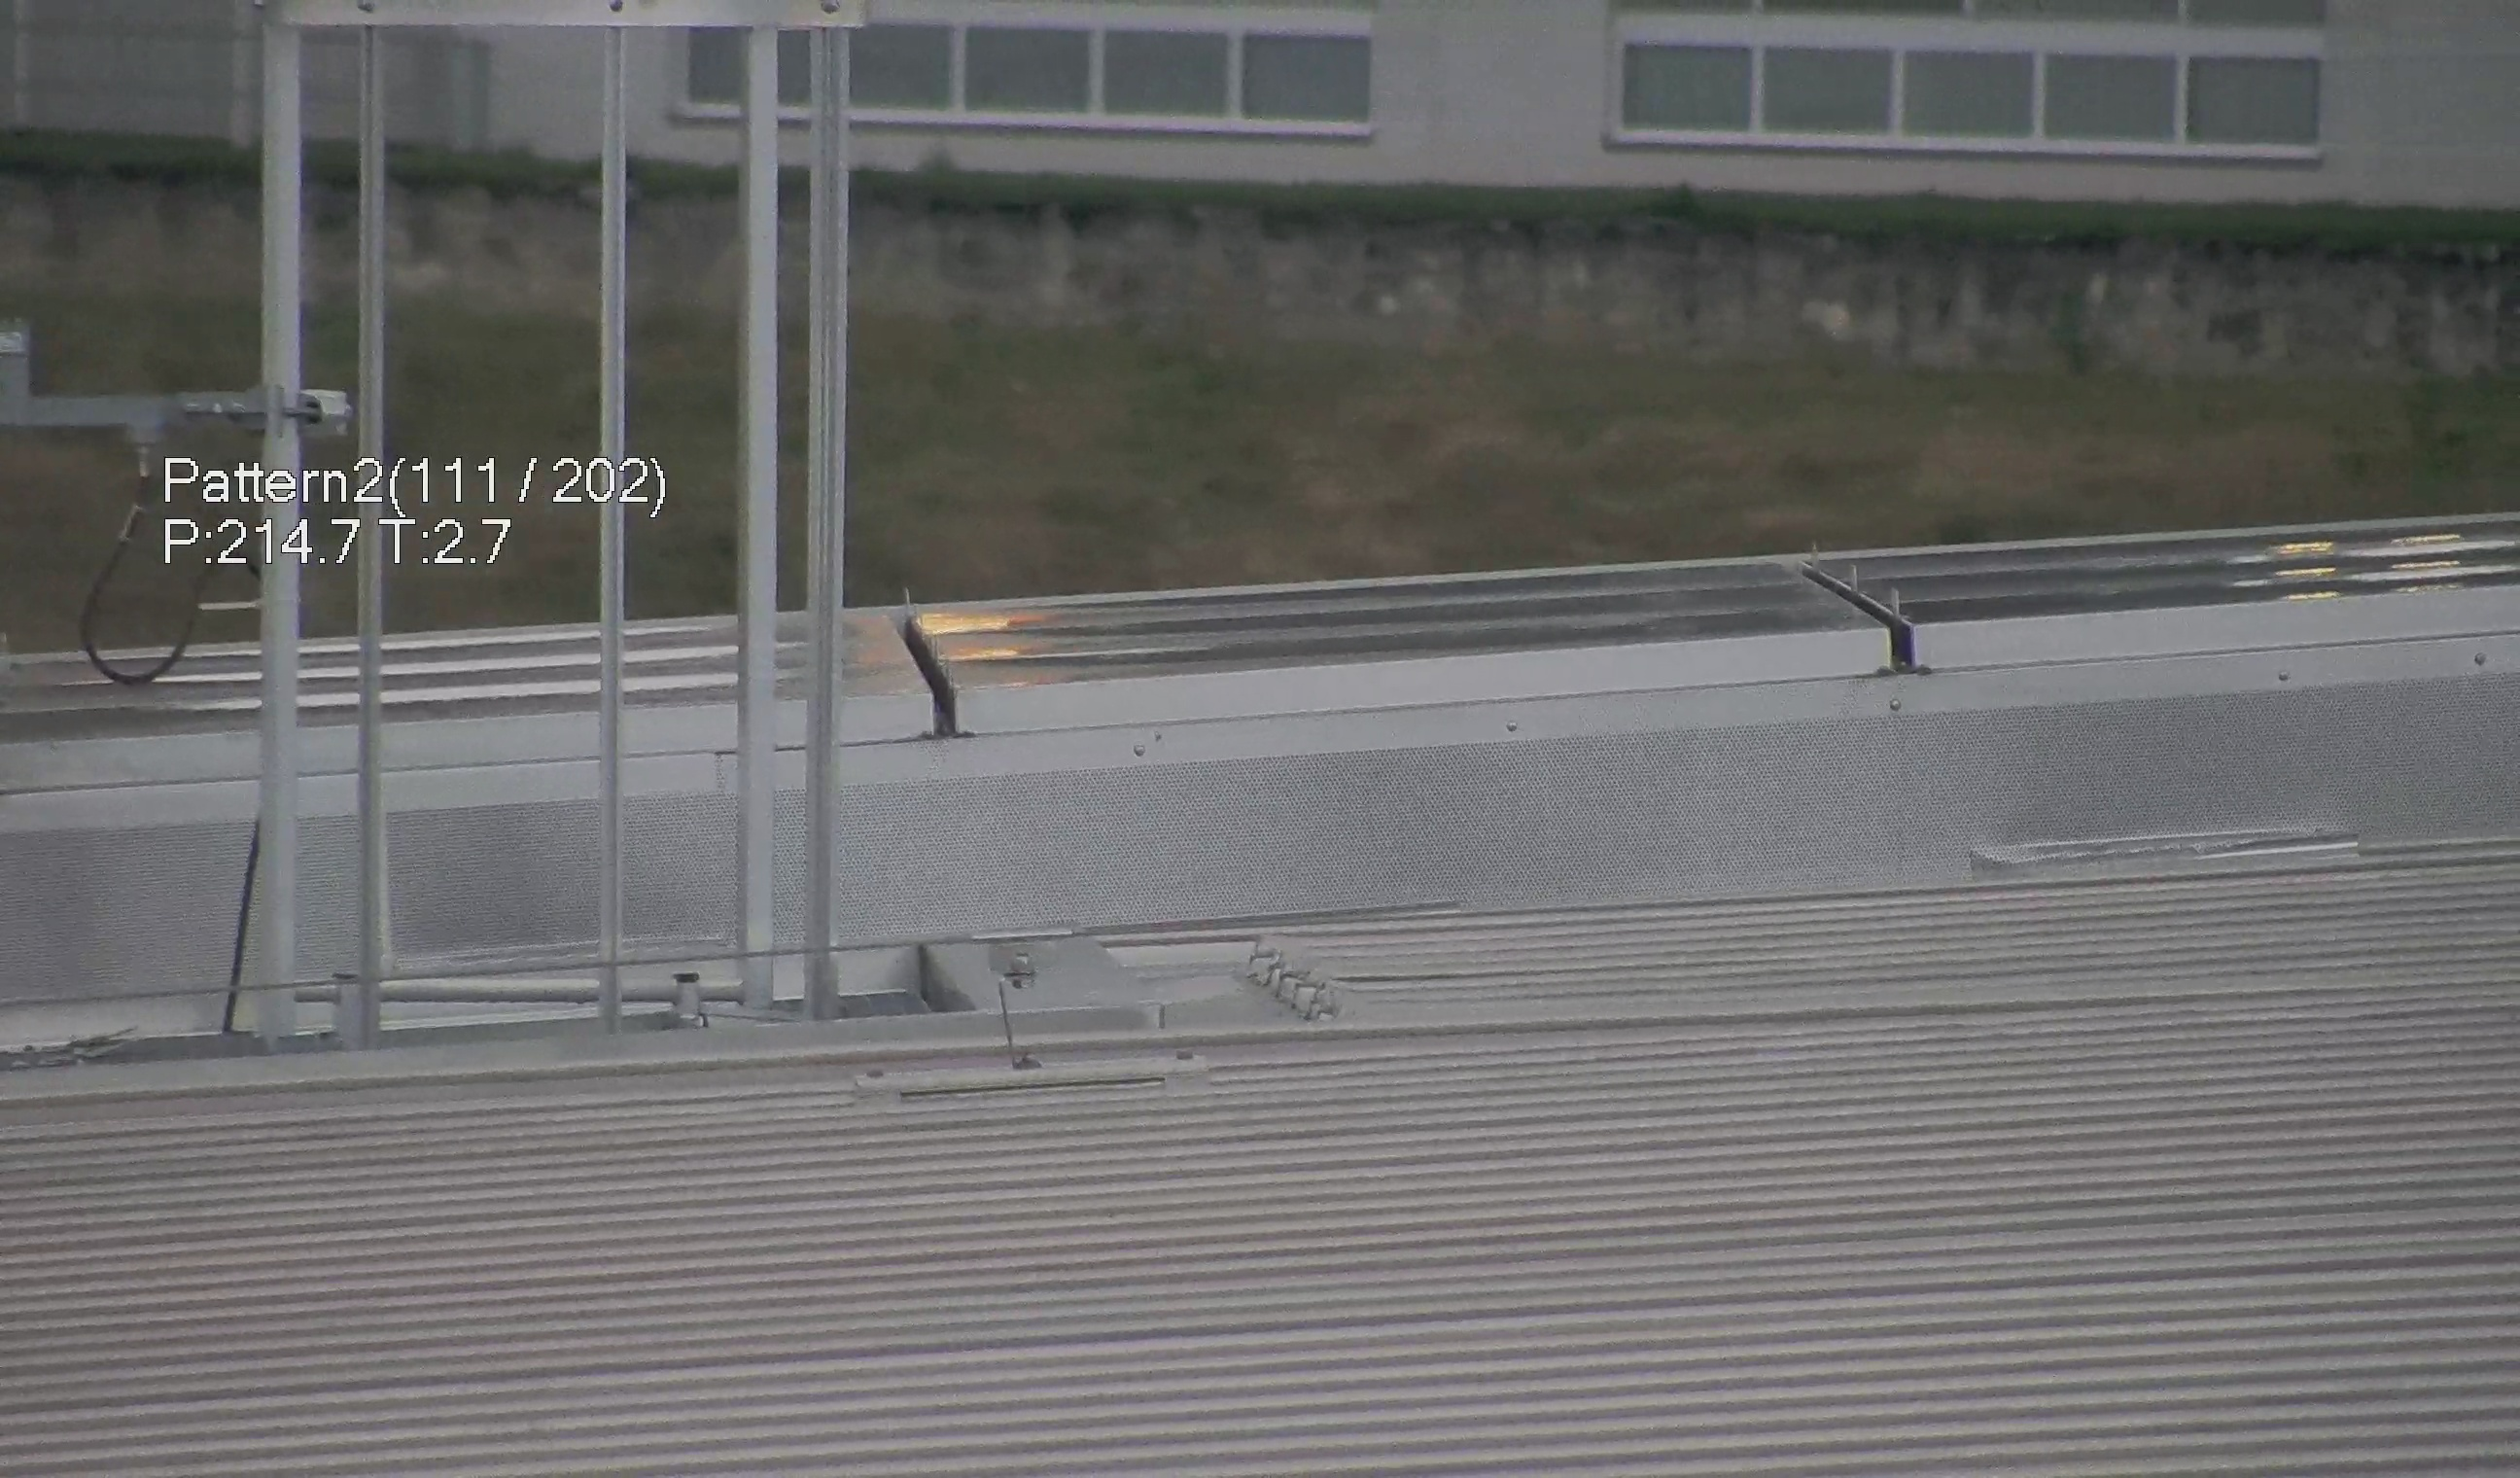Other: (872, 589, 988, 750)
